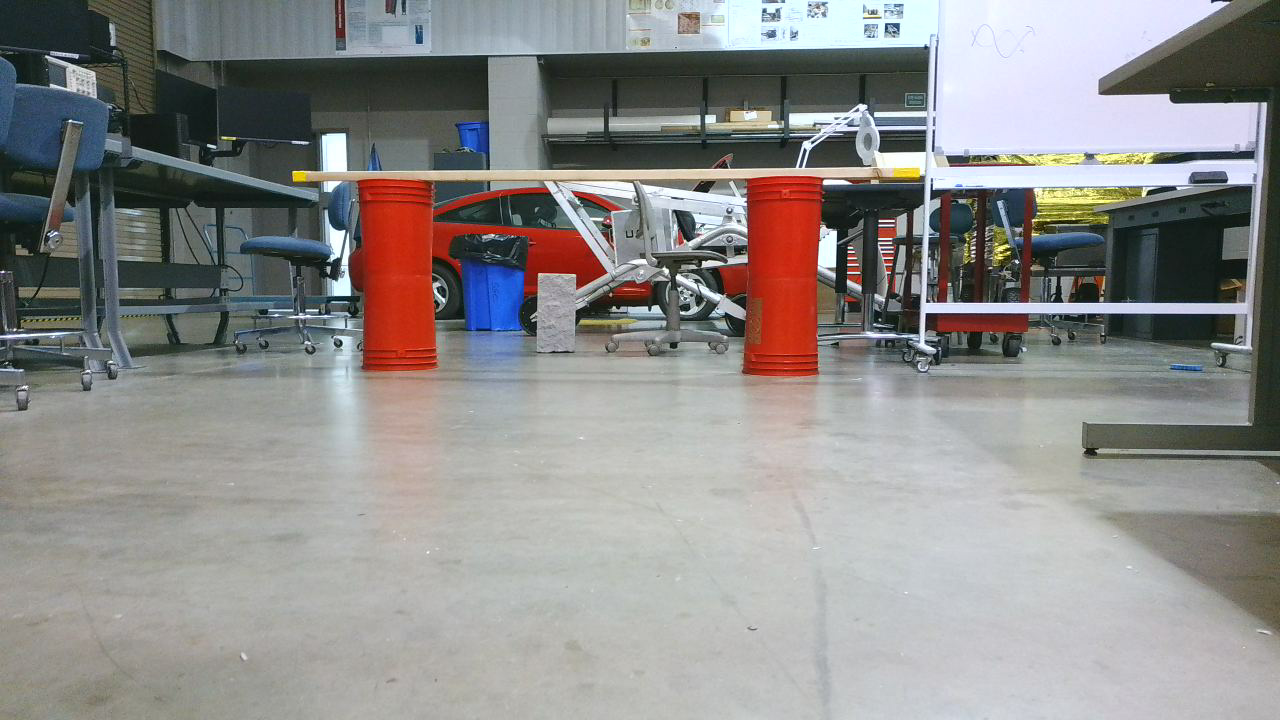red_bucket_arch: (363, 179, 829, 380)
